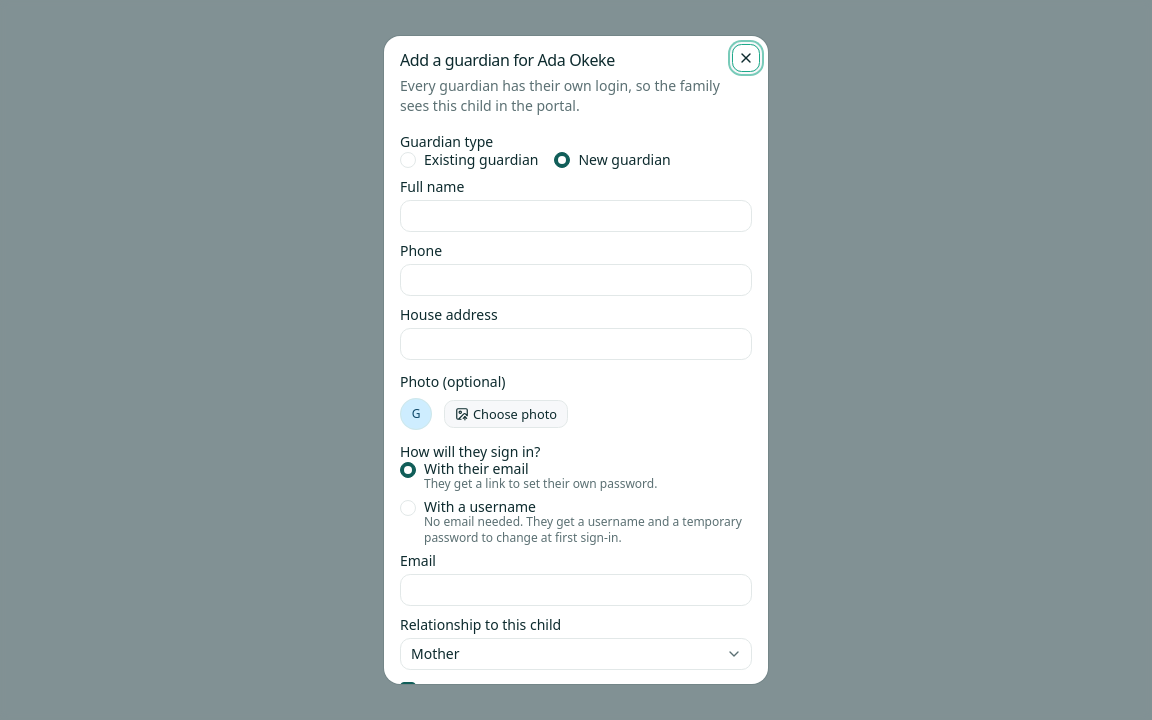
Scenario: AddGuardianDialog › adds a new guardian by username, toasts and shows the credentials once
Type "Mrs Udoh" into the field labelled "Full name" at (576, 216), box [400,200,752,232]
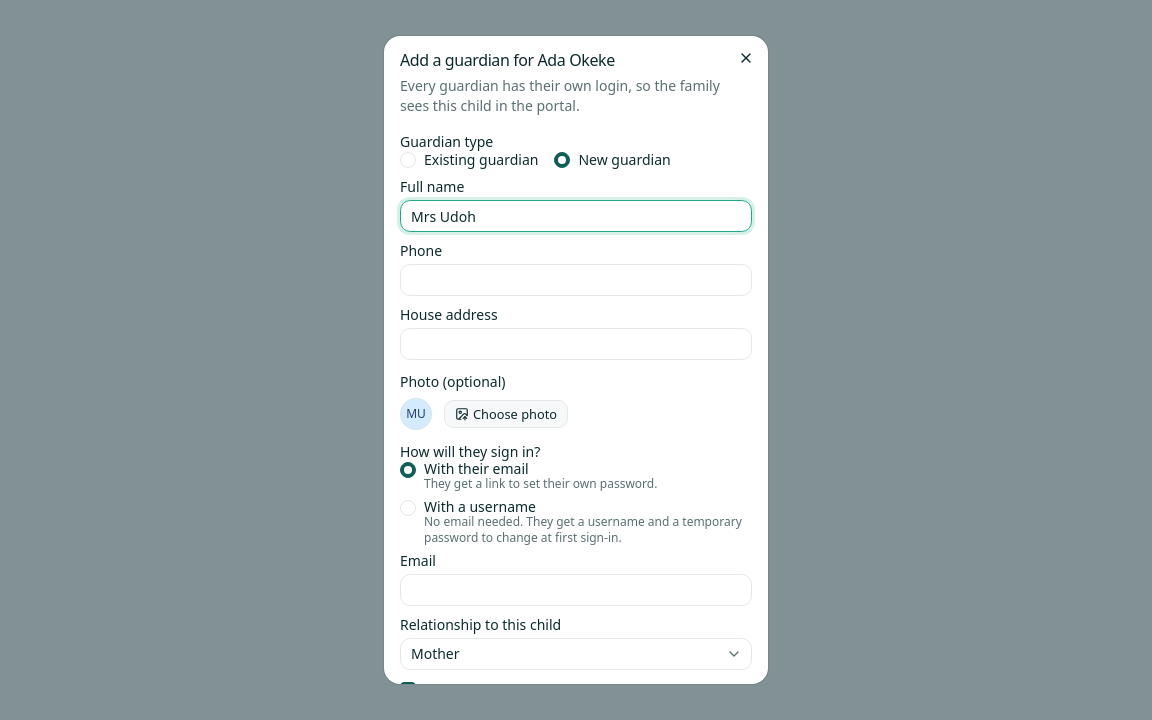
Type "08012345678" into the field labelled "Phone" at (576, 280), box [400,264,752,296]
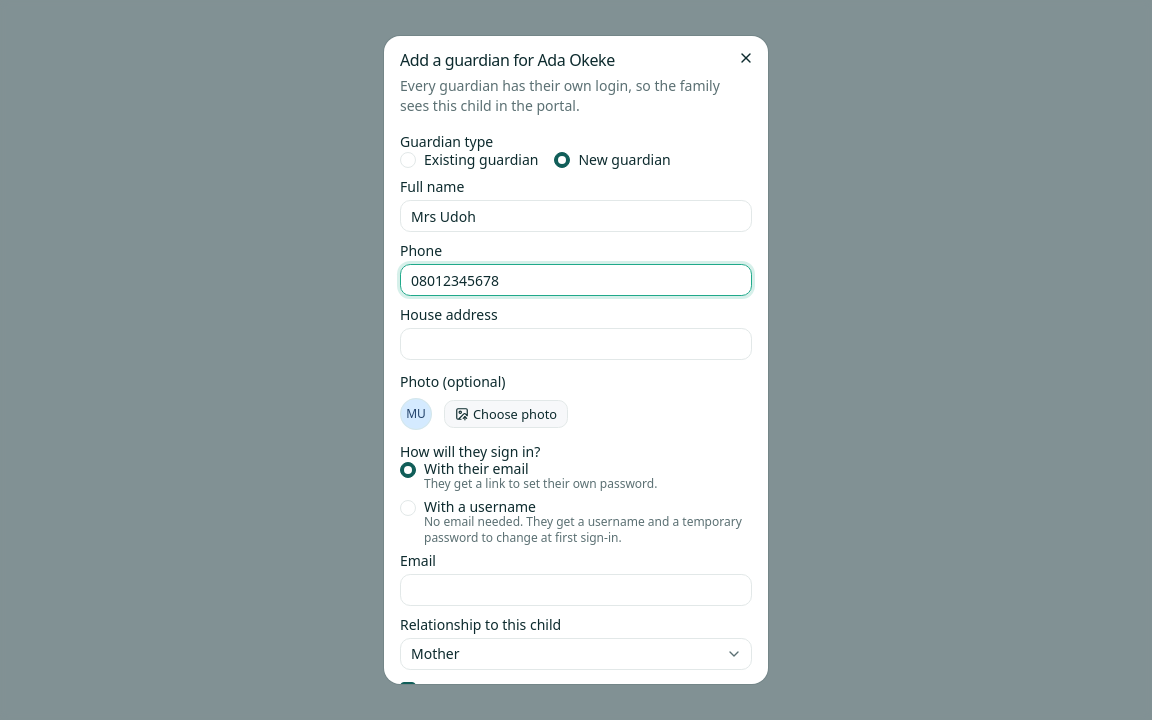
Type "4 Palm Close" into the field labelled "House address" at (576, 344), box [400,328,752,360]
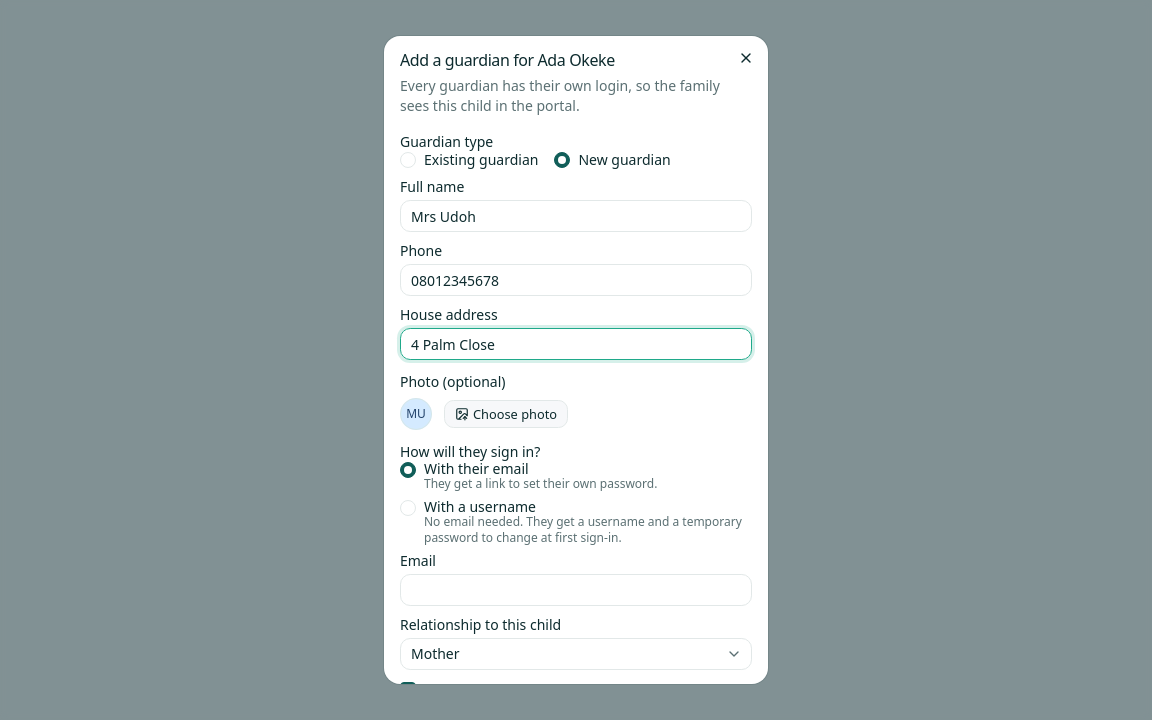
Click the radio button named "With a username" next to "With a username" at (408, 508), box [400,500,416,516]
(page scrolled)
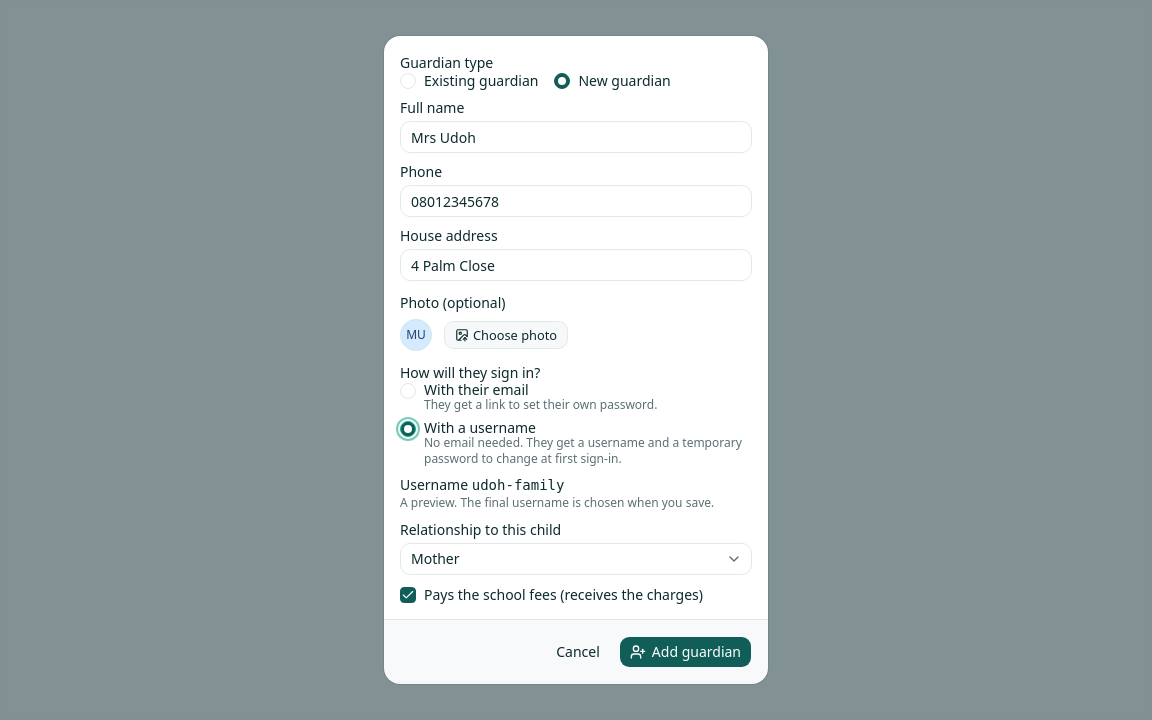
Click the button "Add guardian" at (685, 652), box [619,636,752,668]
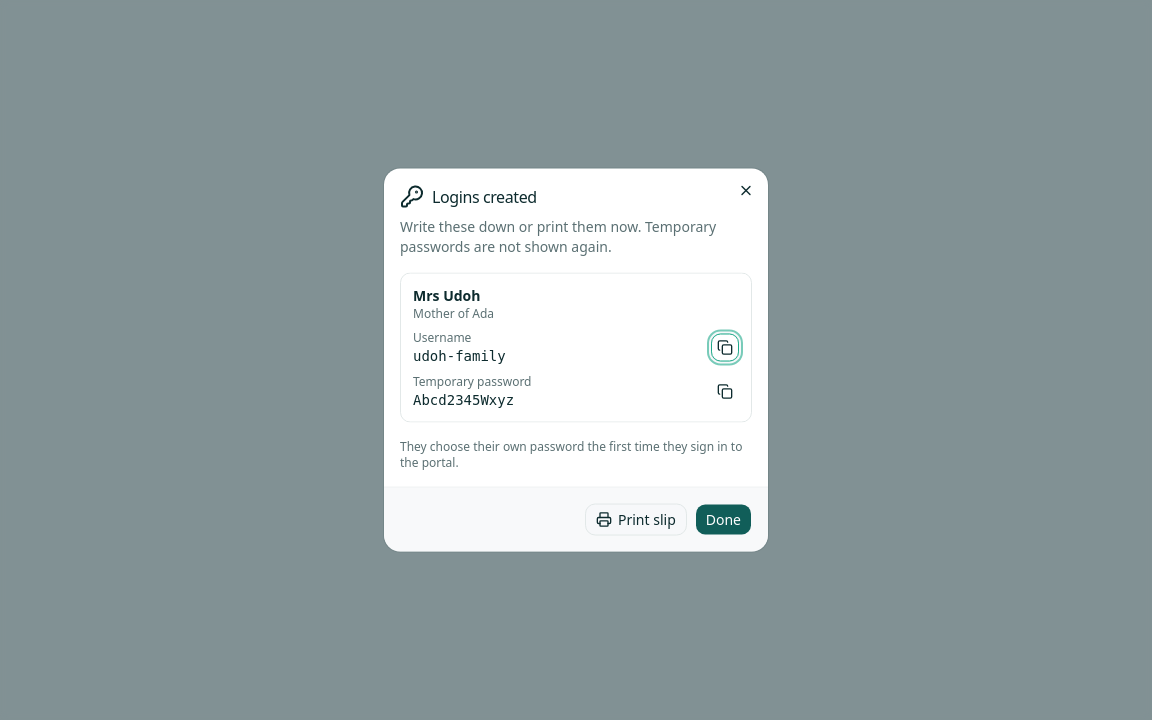
Now the heading "Logins created" is shown, box [400,184,537,208]
